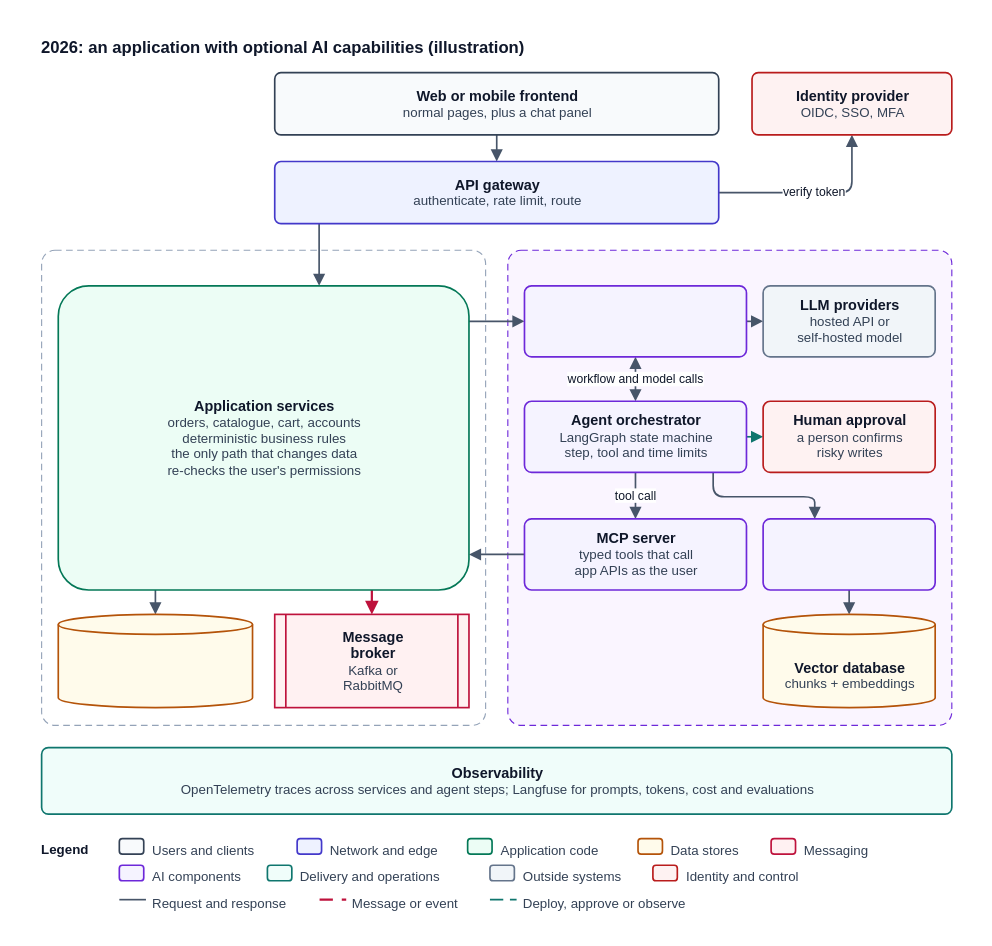
The diagram is 992 pixels wide and 946 high, and some of its shapes have lost their labels. The box of each missing label's shape, as (x1, y1, x2, y2) in pixels:
AI capabilities (optional): (507, 249, 952, 725)
AI gateway model routing, budgets redaction, caching: (523, 284, 747, 357)
Conventional application: (41, 249, 486, 725)
PostgreSQL orders, users, audit: (57, 613, 253, 708)
RAG retrieval embed, search, rank: (762, 518, 936, 590)
